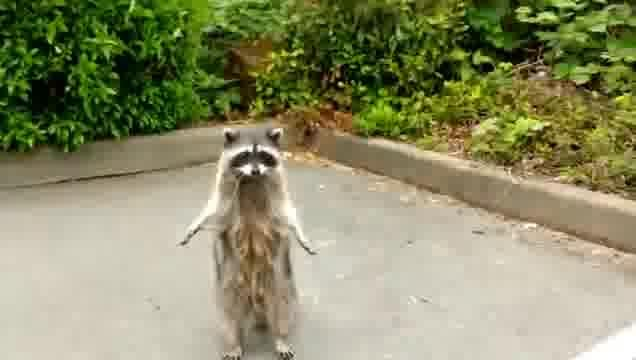raccoon: (180, 123, 317, 360)
